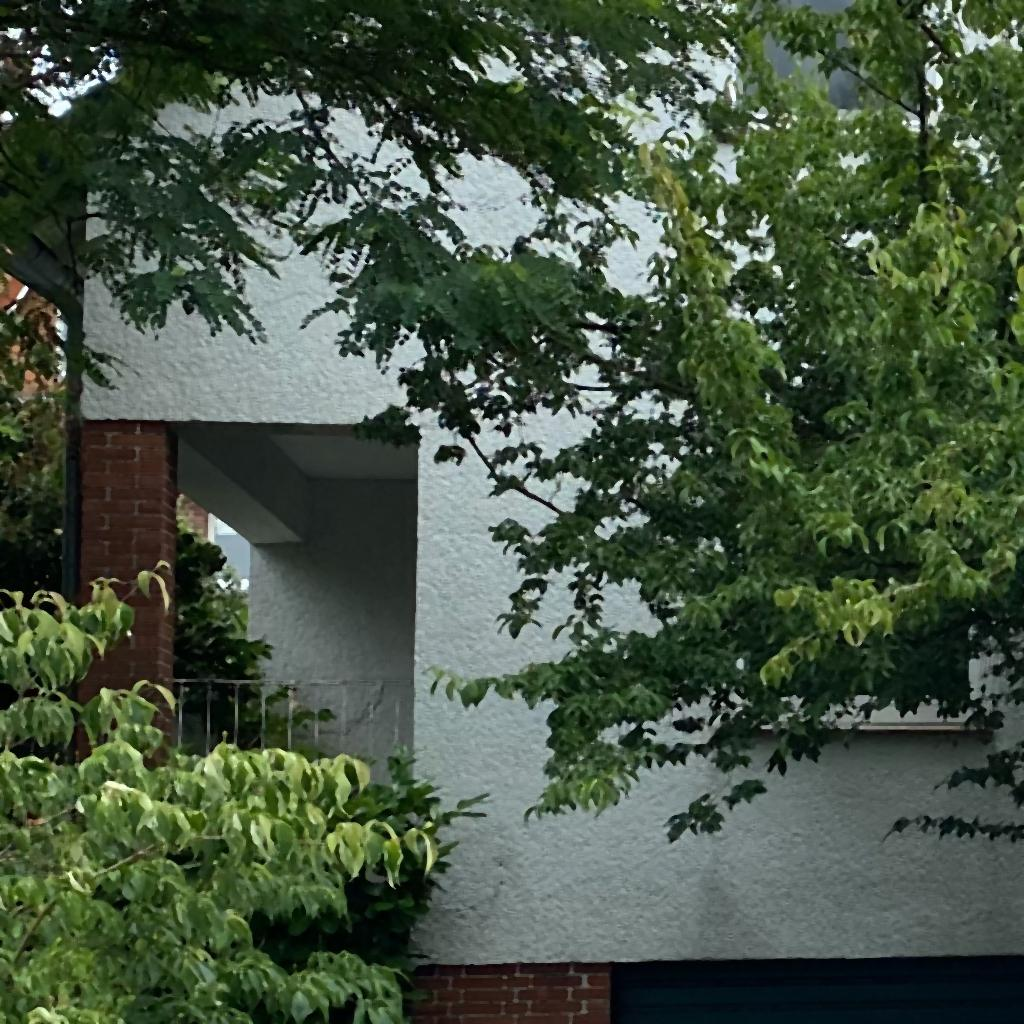tree: (419, 1, 1023, 846), (1, 1, 775, 642)
